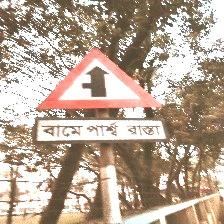Side-road-left: (34, 46, 166, 145)
